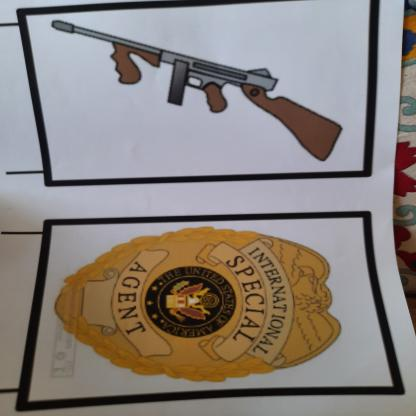Bootlegger: (43, 14, 366, 171)
G-man: (42, 220, 356, 393)
